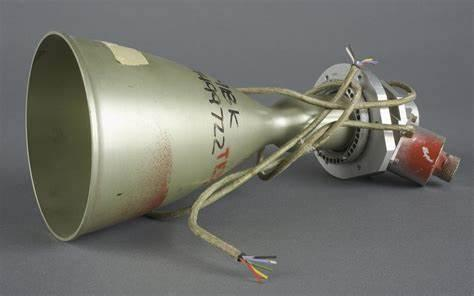thruster: (25, 29, 360, 244)
